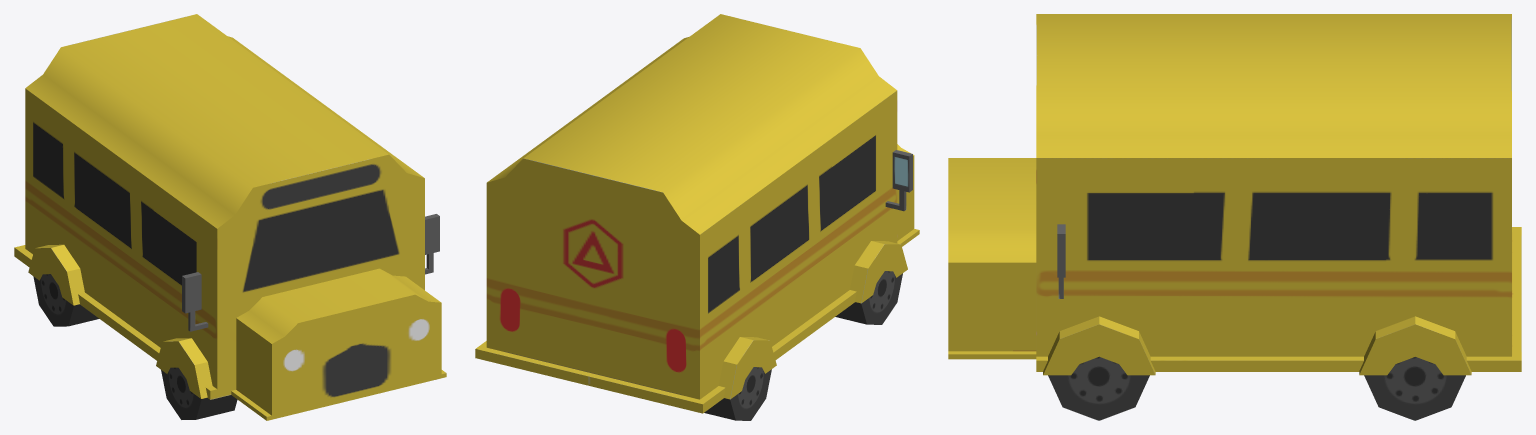
File: Camion_02.fbx
The picture shows the model from 3 angles, left to right: view 1: azimuth 30°, elevation 25°; view 2: azimuth 150°, elevation 25°; view 3: azimuth 270°, elevation 25°; orthographic projection. The views are drawn at different scales.
Parts seen in each view (by area): view 1: pCylinder9; view 2: pCylinder9; view 3: pCylinder9.
Part boxes in pixels (x1,y1,x2,y2): pCylinder9: [14, 14, 446, 420]; pCylinder9: [475, 14, 919, 420]; pCylinder9: [948, 14, 1521, 420].
Bounding box in the file's own units: 112 × 100 × 176.
Materials: 1 (1 with a texture image).
